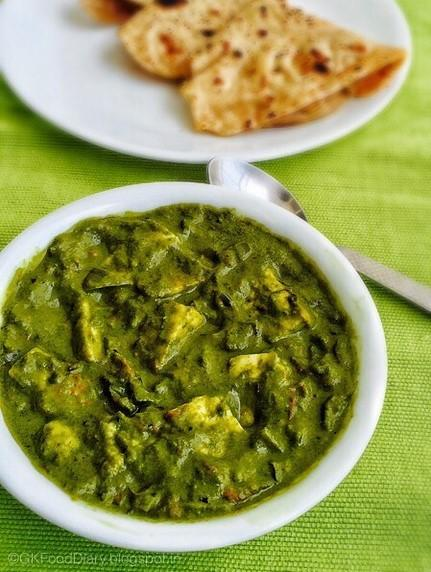PalakPaneer: (0, 206, 360, 523)
